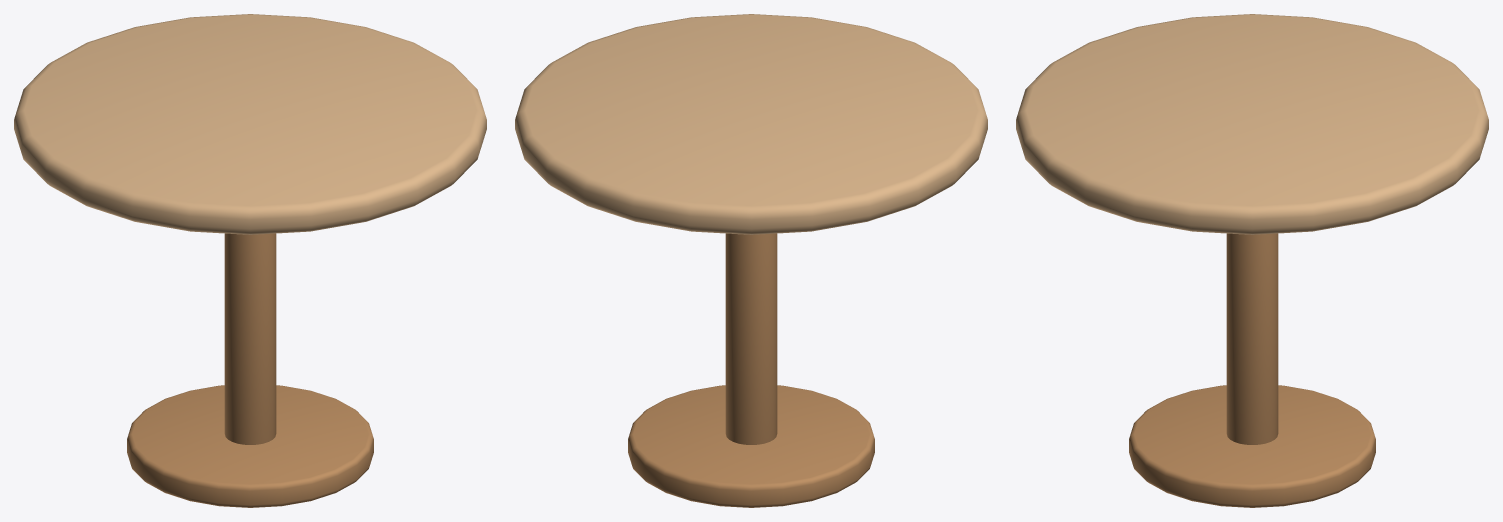
The model's file is table_round.glb.
3 renders of one model, left to right at view 1: azimuth 30°, elevation 25°; view 2: azimuth 150°, elevation 25°; view 3: azimuth 270°, elevation 25°, orthographic.
Visible parts, largest first — view 1: table_round; view 2: table_round; view 3: table_round.
Boxes of the visible parts, bbox=[...] form: table_round: bbox=[14, 14, 486, 507]; table_round: bbox=[515, 14, 987, 507]; table_round: bbox=[1016, 14, 1488, 507].
Size of the model in its own units: 0.92 by 0.745 by 0.92.
